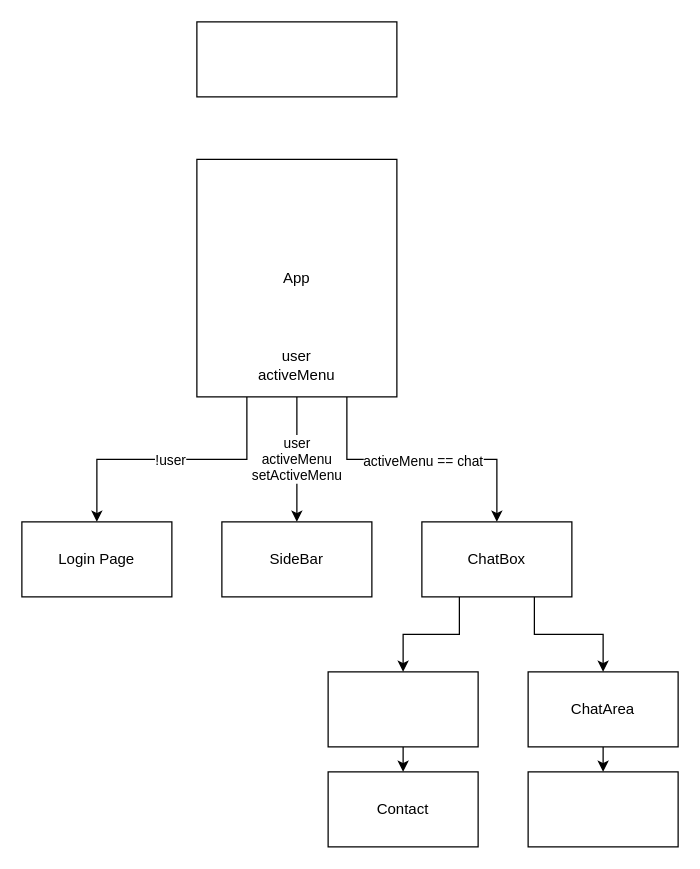
Some shapes in this 700 by 869 pixel diagram are drawn without their labels. Here are the shapes that lost their labels. From the top down, the centre of each, then its label:
At point 296,59: "Main".
At point 402,709: "ContactMenu".
At point 602,809: "Message".
